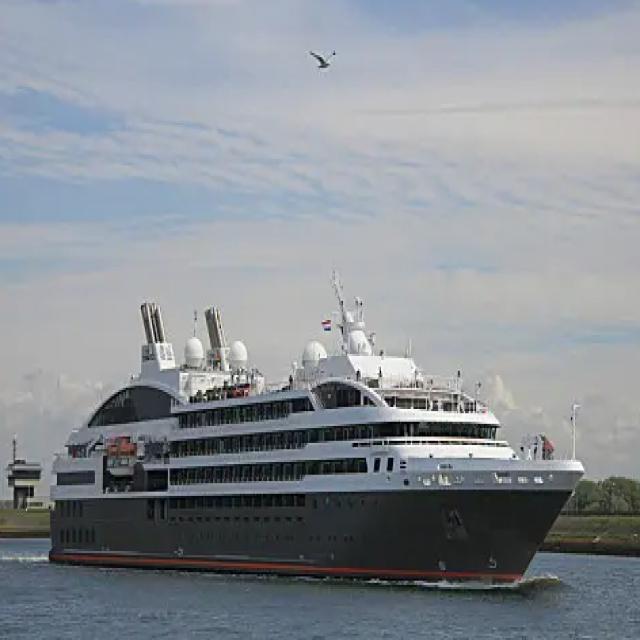passenger ship: (29, 280, 601, 614)
